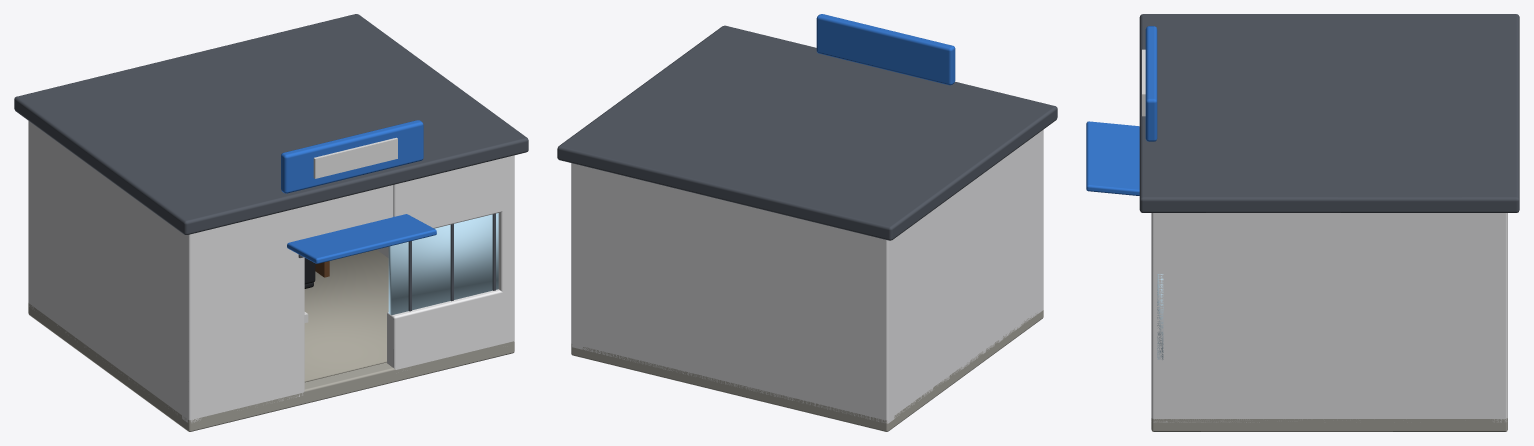
Rendered from Office.fbx.
3 views of the same model, side by side, from view 1: azimuth 30°, elevation 25°; view 2: azimuth 150°, elevation 25°; view 3: azimuth 270°, elevation 25° (orthographic). The views are drawn at different scales.
Visible parts, largest first — view 1: Body__MetalDark~2, Body__White~2, Body__White~4, Body__StoneLight, Body__Blue, Body__Glass, Body__Concrete, Body__White~5, Body__White~6, Body__White~7, Body__White~3, Body__White!1 (+2 smaller); view 2: Body__MetalDark~2, Body__White, Body__White~2, Body__Blue, Body__Concrete, Body__White~3, Body__White~4; view 3: Body__MetalDark~2, Body__White~3, Body__Blue, Body__Concrete, Body__White, Body__White~6, Body__White~5, Body__Glass.
Boxes of the visible parts, left/top/right/bottom form: Body__MetalDark~2: left=14, top=14, right=528, bottom=234; Body__White~2: left=32, top=125, right=201, bottom=422; Body__White~4: left=182, top=207, right=304, bottom=422; Body__StoneLight: left=304, top=249, right=388, bottom=382; Body__Blue: left=281, top=120, right=436, bottom=263; Body__Glass: left=388, top=213, right=498, bottom=315; Body__Concrete: left=28, top=303, right=514, bottom=431; Body__White~5: left=387, top=289, right=503, bottom=369; Body__White~6: left=393, top=158, right=503, bottom=228; Body__White~7: left=302, top=185, right=393, bottom=238; Body__White~3: left=377, top=155, right=514, bottom=343; Body__White!1: left=313, top=137, right=397, bottom=178; Body__MetalDark~2: left=557, top=25, right=1057, bottom=240; Body__White: left=571, top=163, right=894, bottom=423; Body__White~2: left=875, top=134, right=1042, bottom=423; Body__Blue: left=816, top=14, right=955, bottom=85; Body__Concrete: left=571, top=310, right=1043, bottom=431; Body__White~3: left=571, top=163, right=582, bottom=349; Body__White~4: left=1037, top=129, right=1043, bottom=313; Body__MetalDark~2: left=1139, top=14, right=1519, bottom=212; Body__White~3: left=1151, top=213, right=1507, bottom=422; Body__Blue: left=1086, top=26, right=1157, bottom=195; Body__Concrete: left=1151, top=418, right=1507, bottom=431; Body__White: left=1492, top=213, right=1507, bottom=422; Body__White~6: left=1151, top=213, right=1166, bottom=271; Body__White~5: left=1151, top=362, right=1166, bottom=421; Body__Glass: left=1157, top=274, right=1163, bottom=359.
Bounding box in the file's own units: 7.4 × 5.75 × 7.3.
